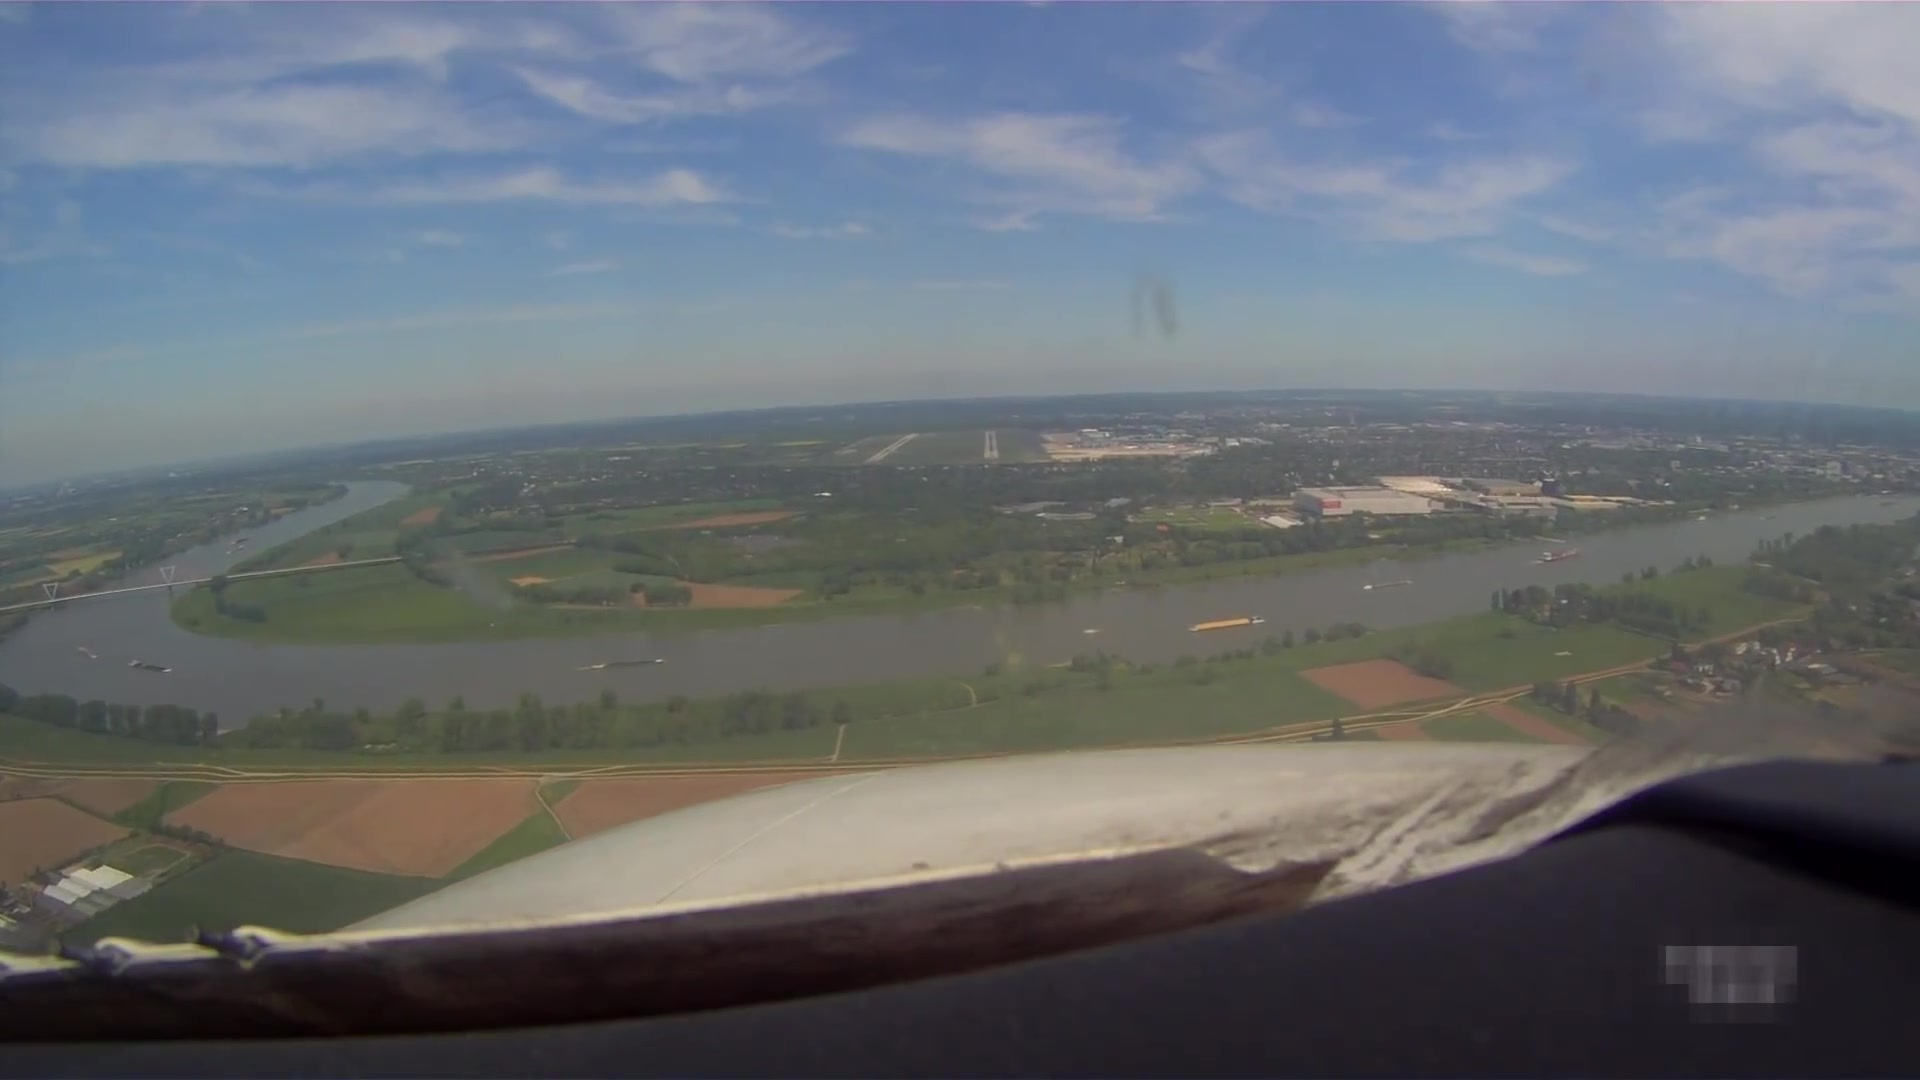runway: (864, 431, 916, 464), (982, 430, 1000, 459)
